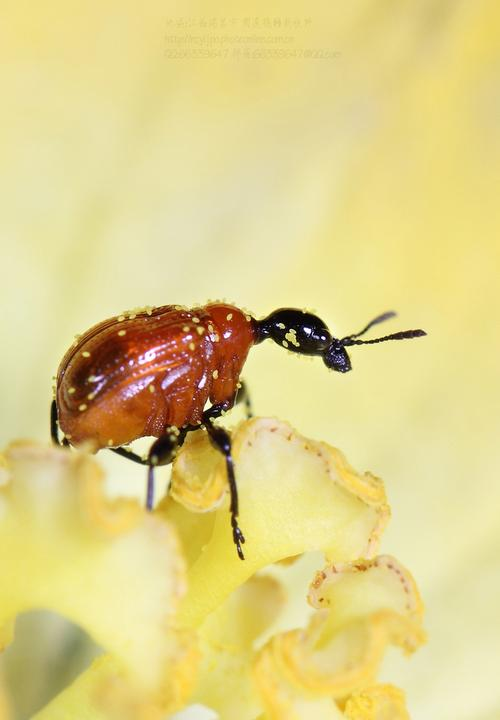Curculionidae: (50, 298, 427, 562)
